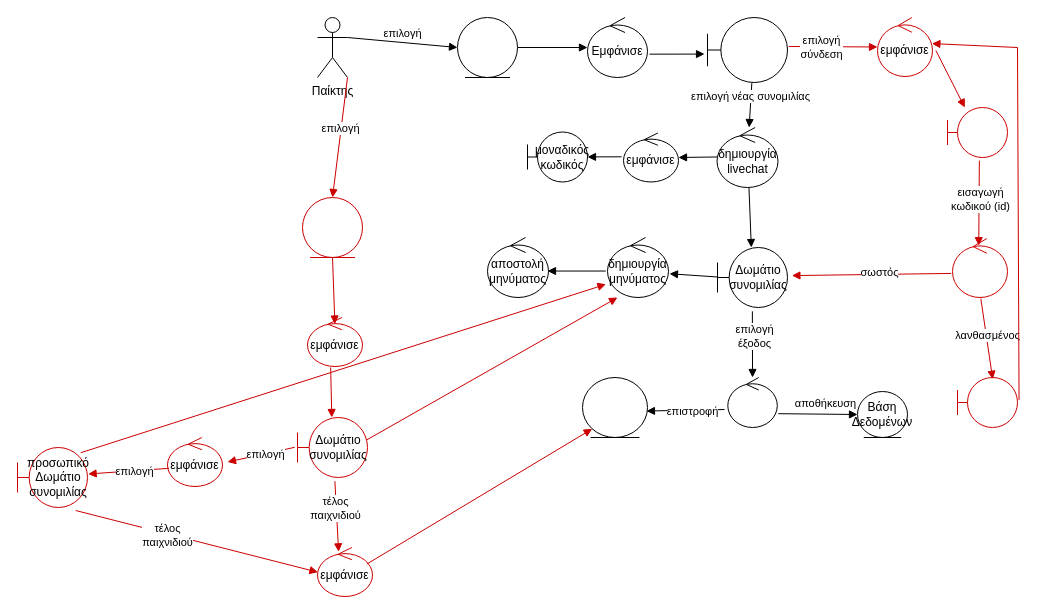
Some shapes in this 1045 by 614 pixel diagram are drawn without their labels. The shapes that lost their labels are listed below. From the top down, each one's box as (x1, y1, x2, y2) in pixels, then its label:
(456, 16, 518, 78): Livechat εφαρμογής
(706, 16, 788, 82): Συνομιλίες
(946, 106, 1008, 158): παράθυρο εισαγωγής κωδικού
(302, 196, 362, 258): Livechat παιχνιδιού
(952, 238, 1008, 298): έλεγχος κωδικού
(582, 376, 648, 438): Αρχικό Menu
(727, 376, 777, 428): αποθήκευση δεδομένων
(956, 376, 1018, 428): μήνυμα λάθους
